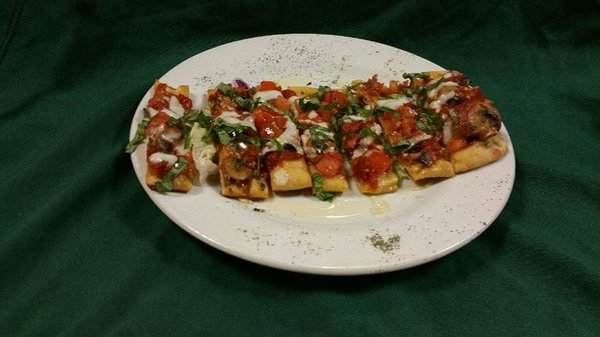curry: (1, 0, 570, 330)
sandwich: (140, 70, 510, 200)
